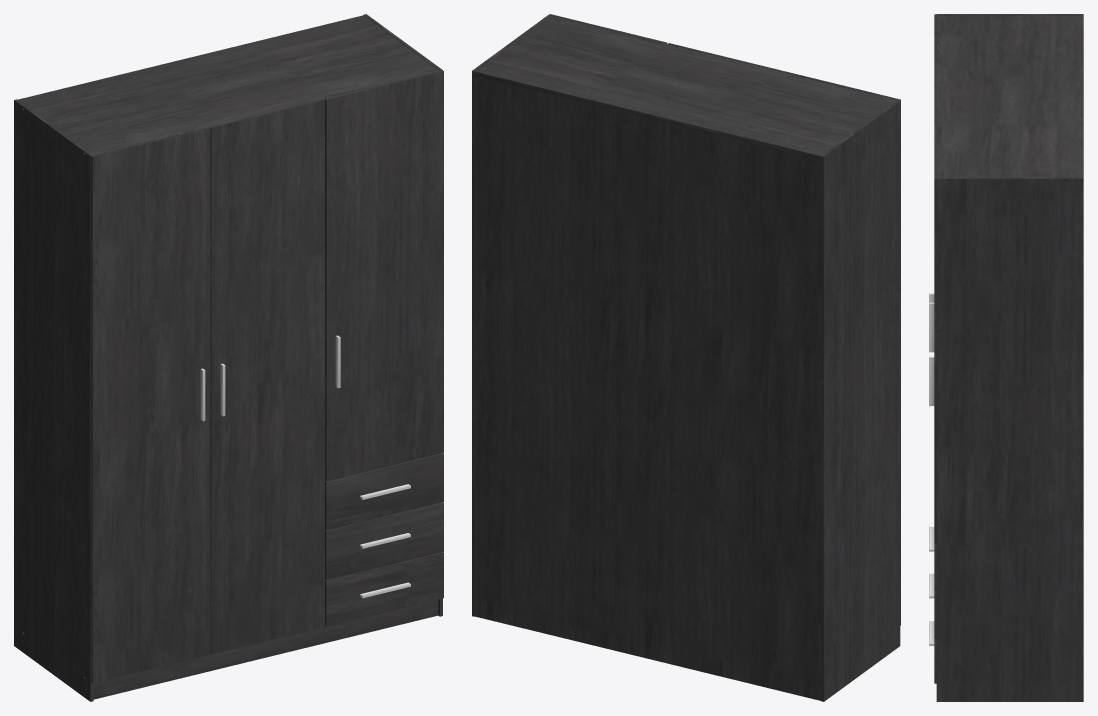
File: B07GFS1R5B.glb
The picture shows the model from 3 angles, left to right: view 1: azimuth 30°, elevation 25°; view 2: azimuth 150°, elevation 25°; view 3: azimuth 270°, elevation 25°; orthographic projection. The views are drawn at different scales.
Visible parts, largest first — view 1: B07GFS1R5B; view 2: B07GFS1R5B; view 3: B07GFS1R5B.
Part boxes in pixels (left/top/right/bottom): B07GFS1R5B: left=14, top=14, right=443, bottom=701; B07GFS1R5B: left=472, top=14, right=900, bottom=701; B07GFS1R5B: left=929, top=14, right=1083, bottom=701.
Bounding box in the file's own units: 1.29 × 1.91 × 0.5097.
Materials: 1 (1 with a texture image).
